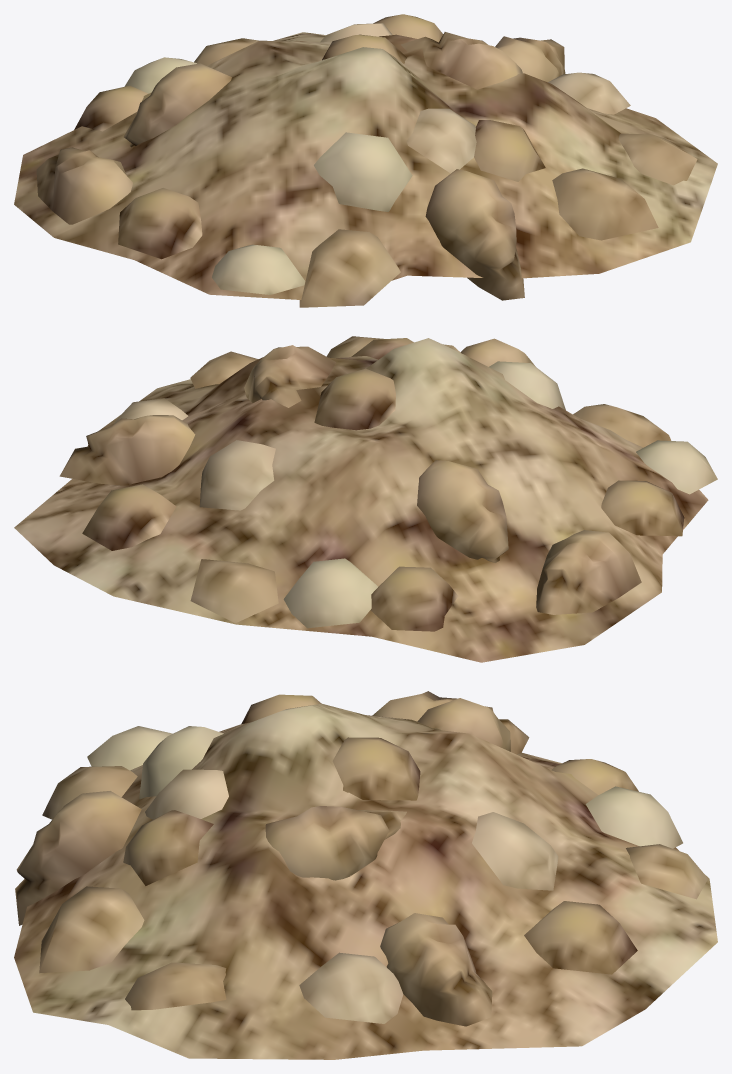
Rendered from skulls.glb.
The picture shows the model from 3 angles, top to bottom: view 1: azimuth 30°, elevation 25°; view 2: azimuth 150°, elevation 25°; view 3: azimuth 270°, elevation 25°; orthographic projection. The views are drawn at different scales.
Parts seen in each view (by area): view 1: Box001_03 - Default_0; view 2: Box001_03 - Default_0; view 3: Box001_03 - Default_0.
Part boxes in pixels (x1,y1,x2,y2): Box001_03 - Default_0: (14, 14, 717, 307); Box001_03 - Default_0: (14, 336, 717, 662); Box001_03 - Default_0: (14, 691, 717, 1059).
Bounding box in the file's own units: 140 × 38.49 × 127.
1 material, 1 textured.
